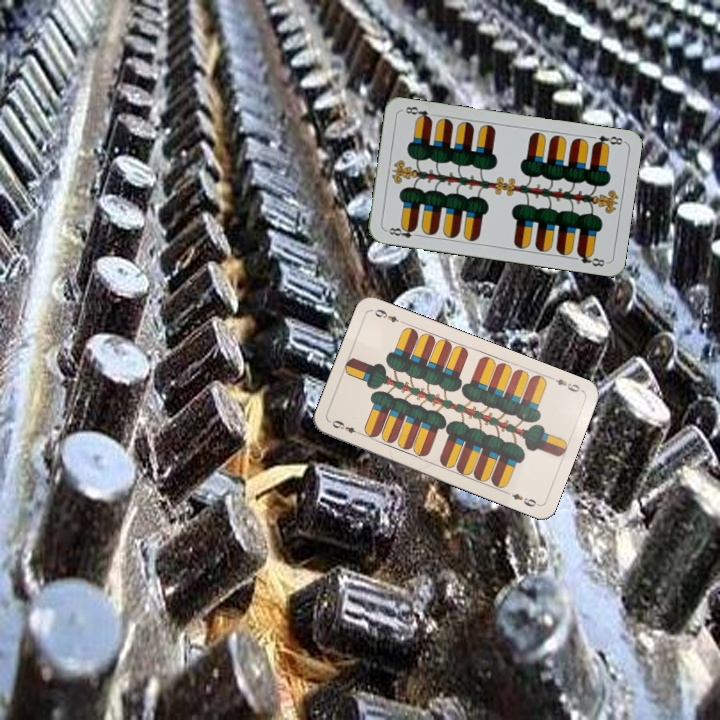E8: (382, 222, 422, 241), (589, 131, 626, 150)
E9: (326, 416, 365, 438), (546, 373, 585, 395)
